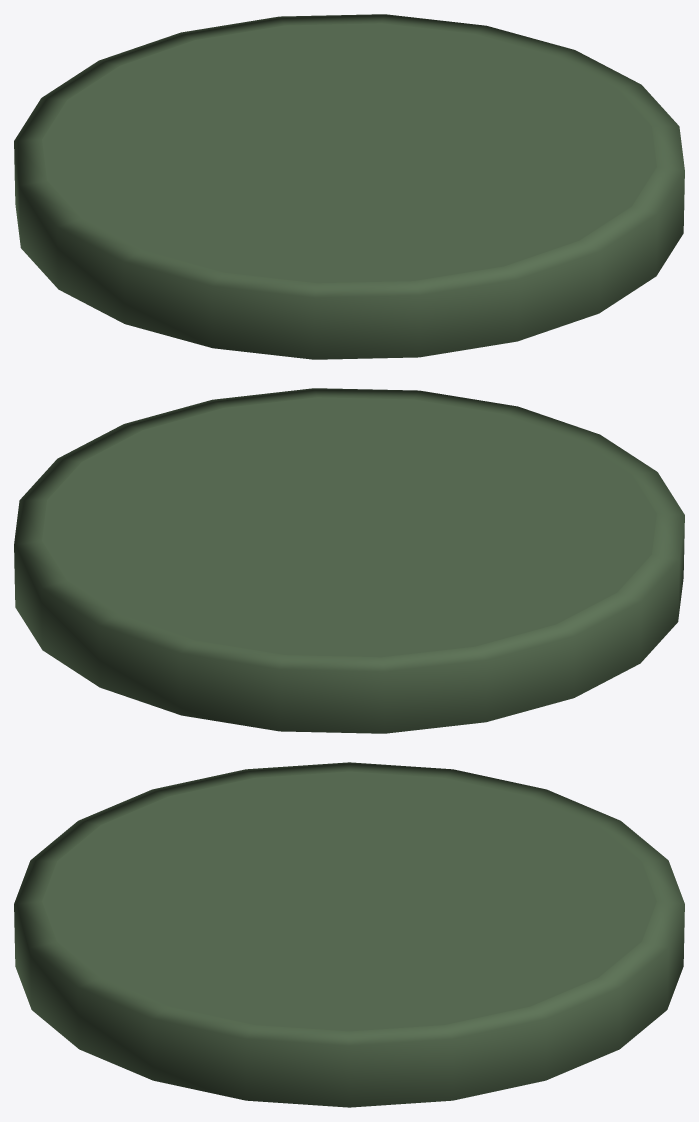
File: Checker_Sp_Screw_01.fbx
The picture shows the model from 3 angles, top to bottom: view 1: azimuth 30°, elevation 25°; view 2: azimuth 150°, elevation 25°; view 3: azimuth 270°, elevation 25°; orthographic projection.
Parts seen in each view (by area): view 1: Checker_Sp_Screw_01; view 2: Checker_Sp_Screw_01; view 3: Checker_Sp_Screw_01.
Boxes of the visible parts, x1=… form: Checker_Sp_Screw_01: x1=14, y1=14, x2=684, y2=359; Checker_Sp_Screw_01: x1=14, y1=388, x2=684, y2=733; Checker_Sp_Screw_01: x1=14, y1=762, x2=684, y2=1107.
Size of the model in its own units: 5.26 by 0.5862 by 5.26.
